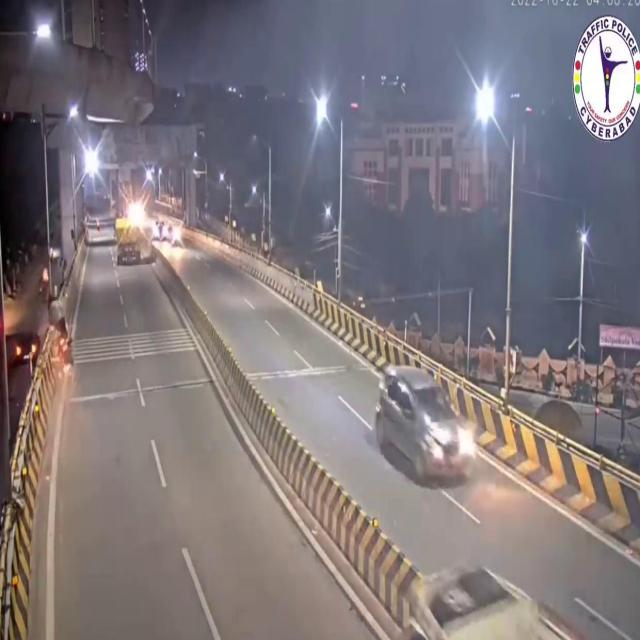accident: (44, 289, 78, 371)
